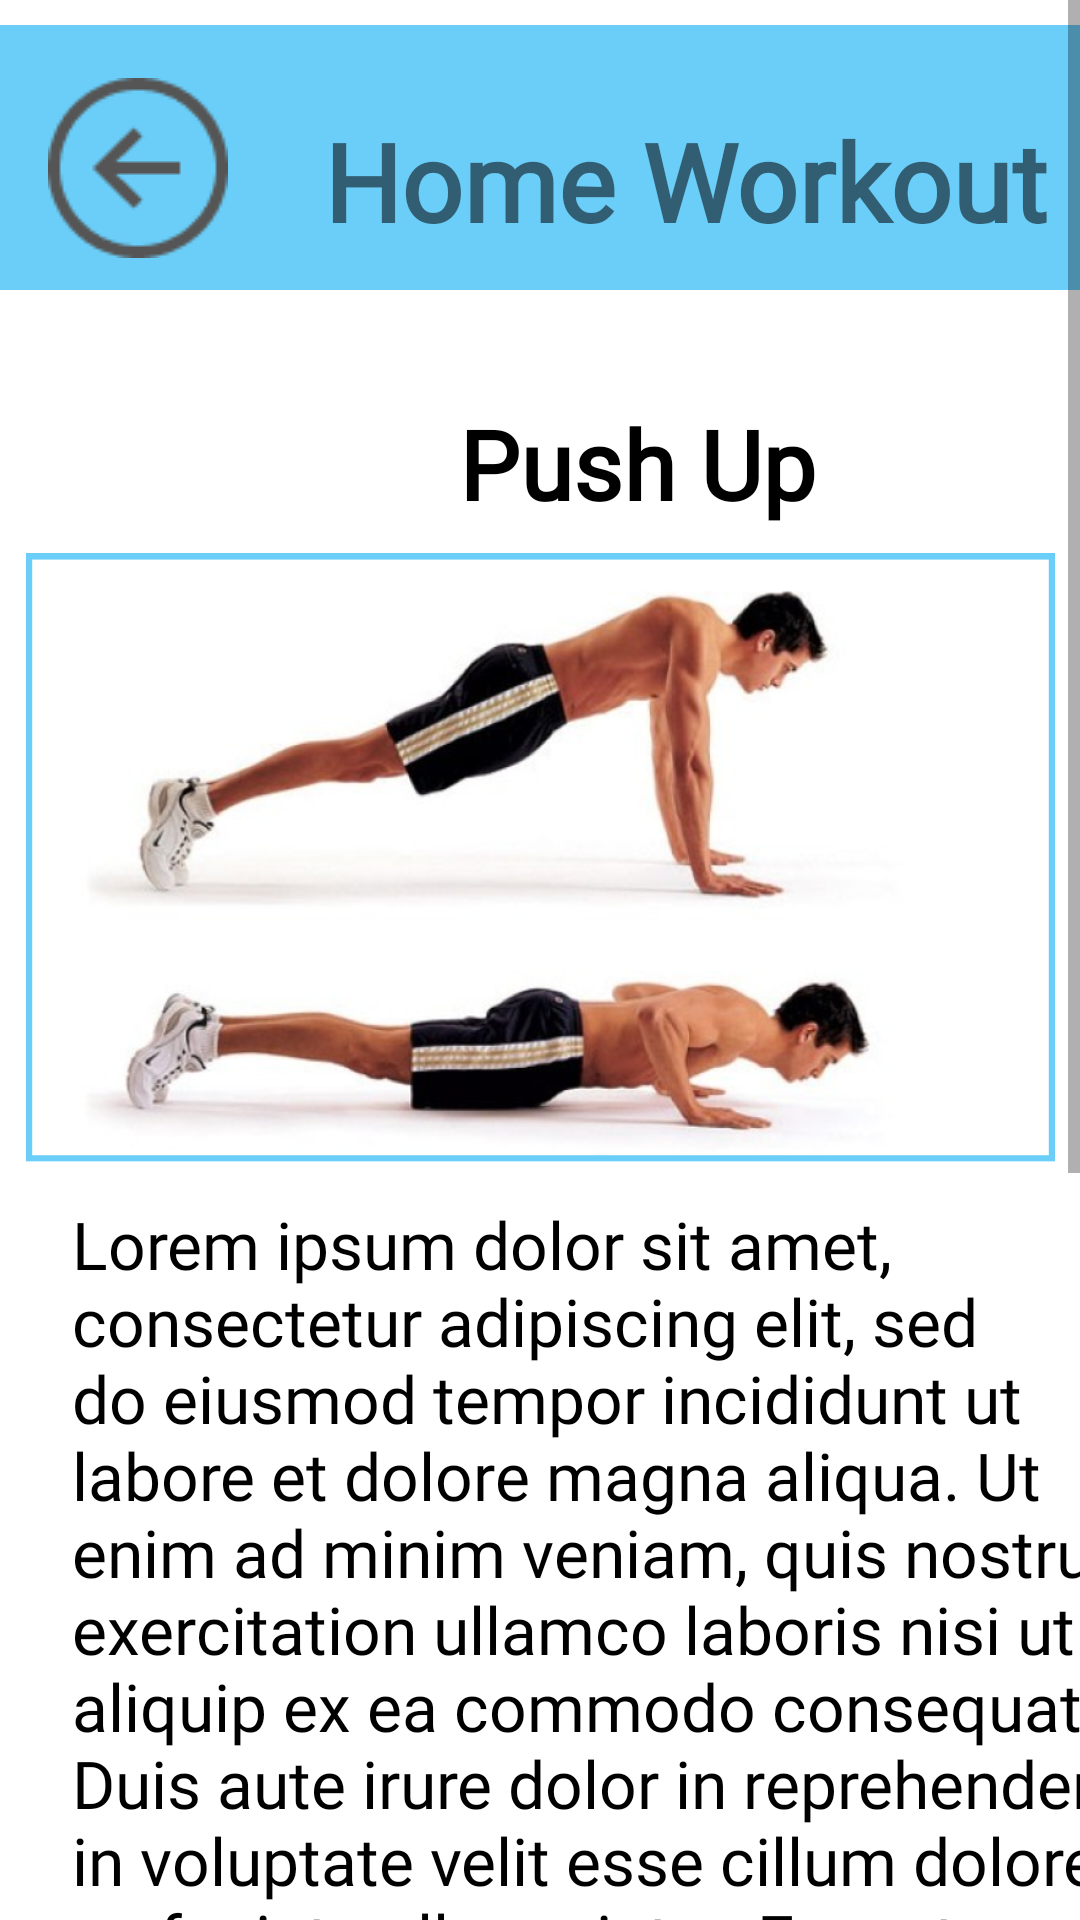

Where icons sit on this 1080x1920 app screen, as (x1,y1,x2,y2):
backbtn: (48,78,228,258)
